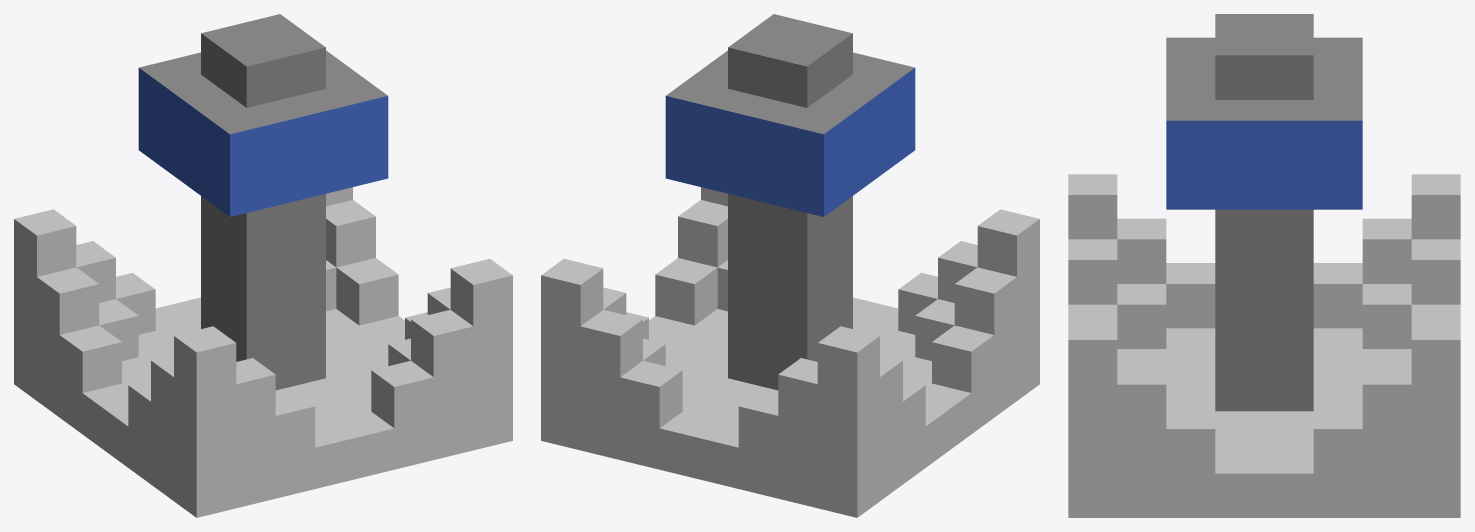
The model's file is HQDimension.fbx.
The picture shows the model from 3 angles, left to right: view 1: azimuth 30°, elevation 25°; view 2: azimuth 150°, elevation 25°; view 3: azimuth 270°, elevation 25°; orthographic projection. The views are drawn at different scales.
Visible parts, largest first — view 1: Plane; view 2: Plane; view 3: Plane.
Part boxes in pixels (x1,y1,x2,y2): Plane: [14, 14, 512, 517]; Plane: [541, 14, 1039, 517]; Plane: [1068, 14, 1460, 517].
Bounding box in the file's own units: 400 × 450 × 400.
